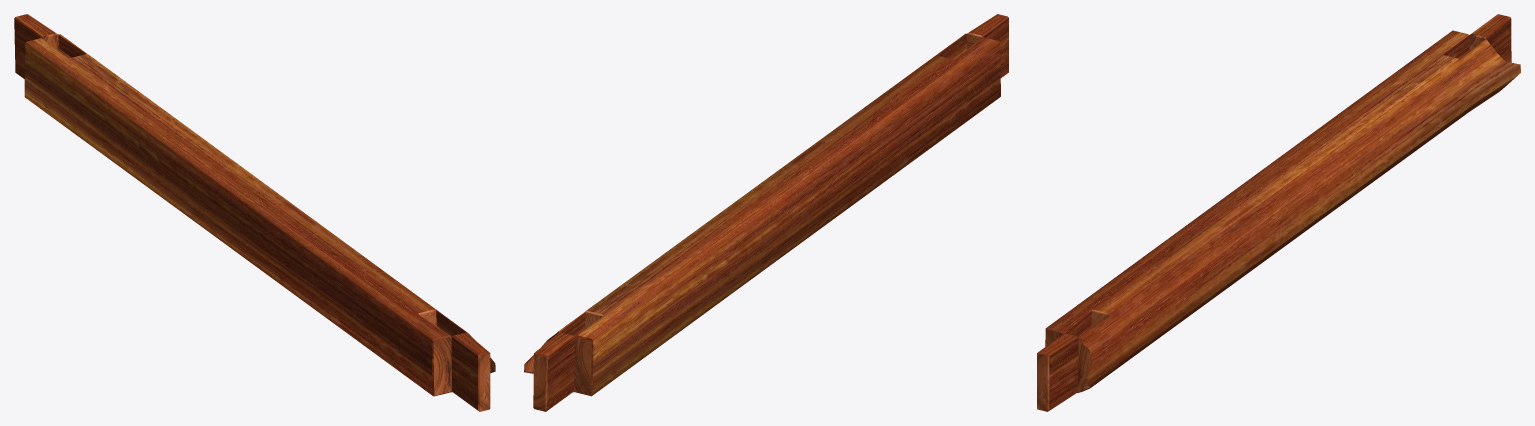
Rendered from quanyi_J_ceganzhang_you.FBX.
3 renders of one model, left to right at view 1: azimuth 30°, elevation 25°; view 2: azimuth 150°, elevation 25°; view 3: azimuth 330°, elevation 25°, orthographic.
Visible parts, largest first — view 1: quanyi_J_ceganzhang_you; view 2: quanyi_J_ceganzhang_you; view 3: quanyi_J_ceganzhang_you.
Part boxes in pixels (x1,y1,x2,y2): quanyi_J_ceganzhang_you: [14, 14, 495, 411]; quanyi_J_ceganzhang_you: [524, 14, 1008, 411]; quanyi_J_ceganzhang_you: [1037, 14, 1520, 411].
Size of the model in its own units: 3.15 by 3 by 44.36.
2 materials, 2 textured.
